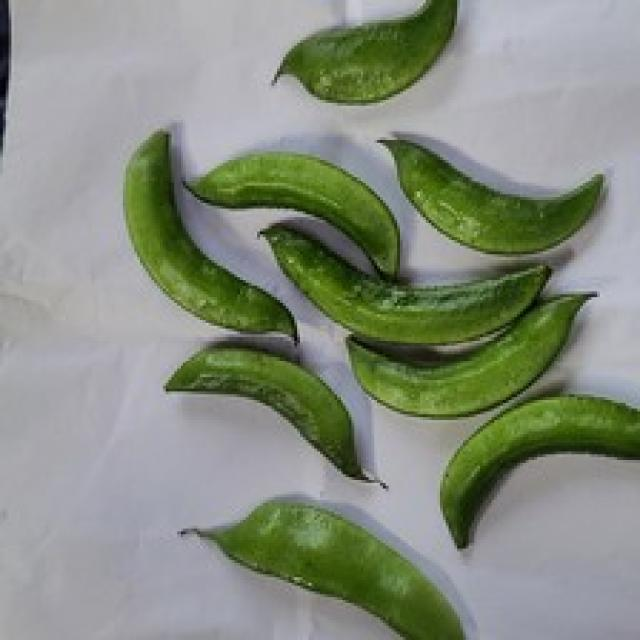Bean: (177, 497, 477, 637), (120, 126, 300, 346), (254, 220, 552, 349), (343, 289, 597, 417), (163, 343, 386, 488), (437, 392, 637, 548), (180, 149, 400, 280), (374, 134, 606, 254), (269, 0, 457, 103)
